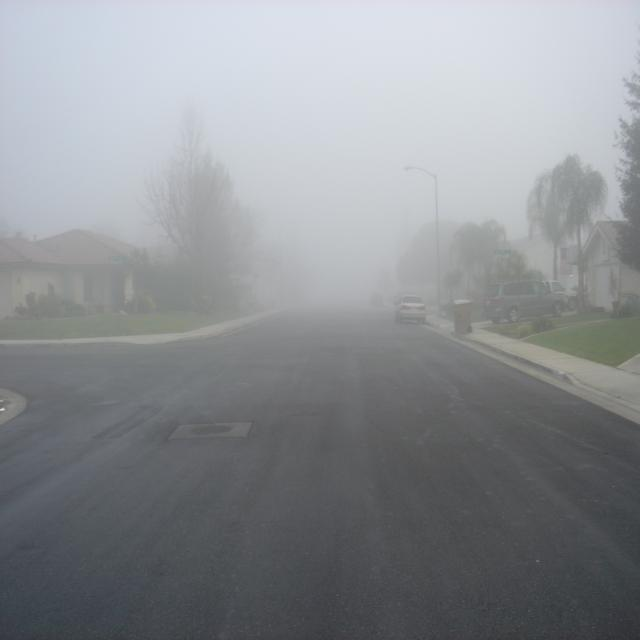car: (488, 277, 562, 322), (544, 274, 578, 312), (397, 296, 426, 324)
